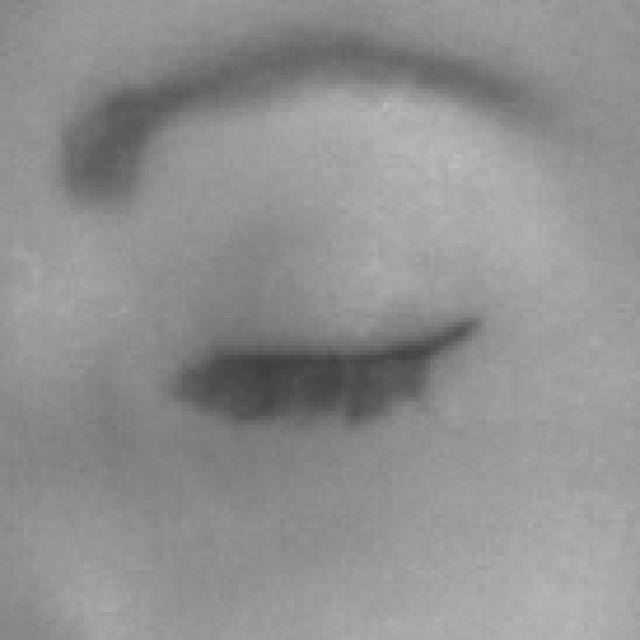Eyeclosed: (202, 244, 477, 494)
